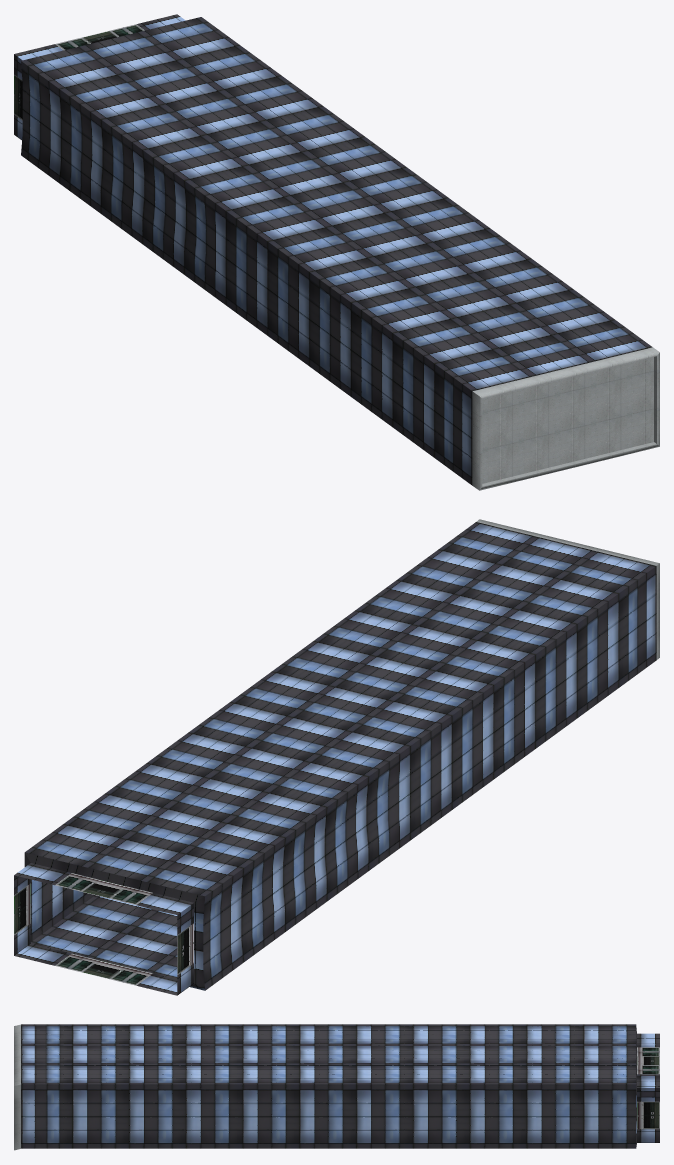
File: skyscraper_windowE_08.obj
3 views of the same model, one above another, from view 1: azimuth 30°, elevation 25°; view 2: azimuth 150°, elevation 25°; view 3: azimuth 270°, elevation 25° (orthographic). The views are drawn at different scales.
Parts seen in each view (by area): view 1: Object104; view 2: Object104; view 3: Object104.
Part boxes in pixels (x1,y1,x2,y2): Object104: (14, 14, 659, 490); Object104: (14, 519, 659, 995); Object104: (14, 1024, 659, 1150).
Bounding box in the file's own units: 40.42 × 20.34 × 182.
3 materials, 3 textured.
